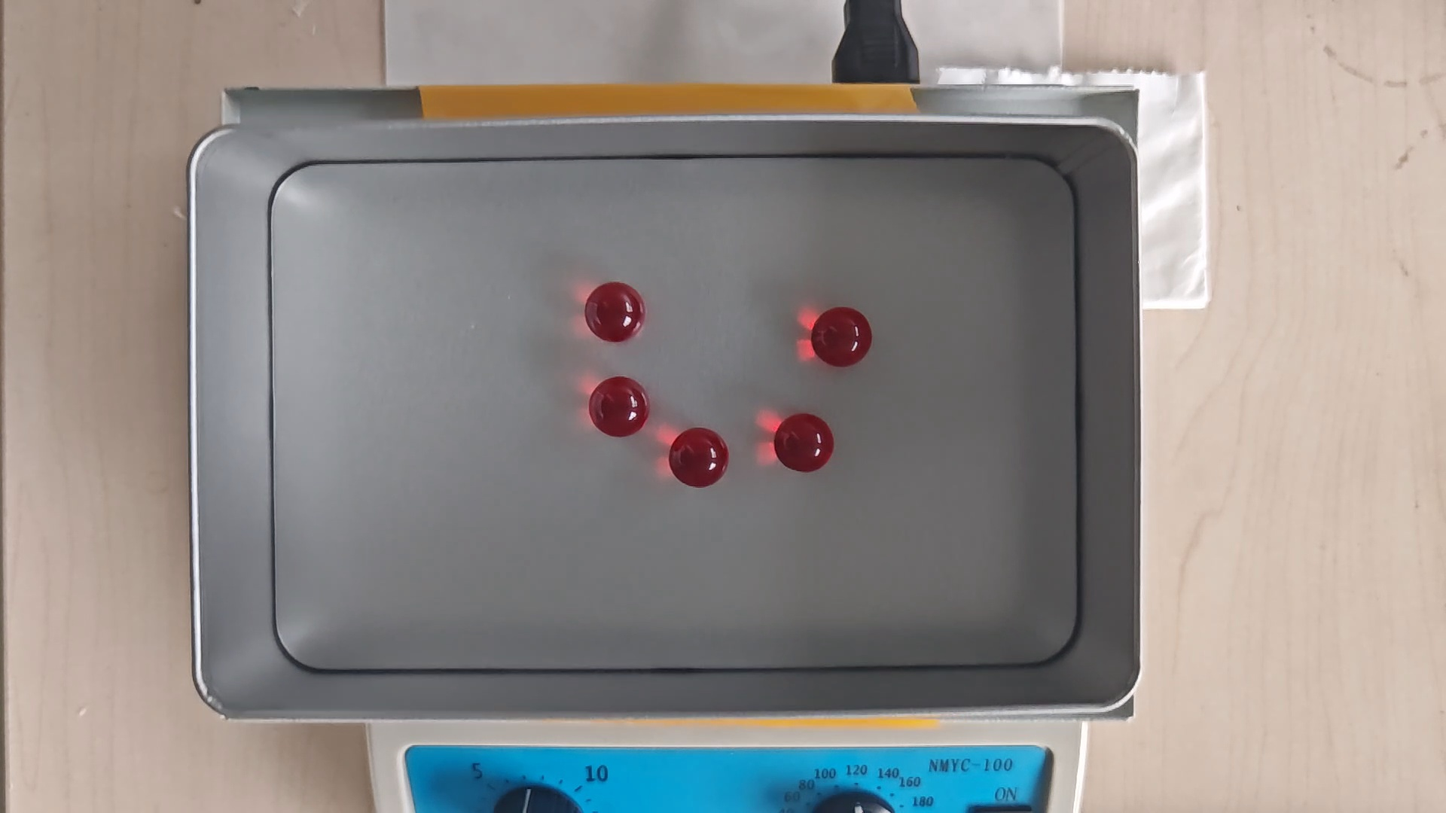ball: (810, 305, 875, 368), (584, 284, 647, 346), (773, 412, 836, 473), (591, 376, 651, 438), (670, 425, 727, 489)
container: (272, 156, 1078, 670)
